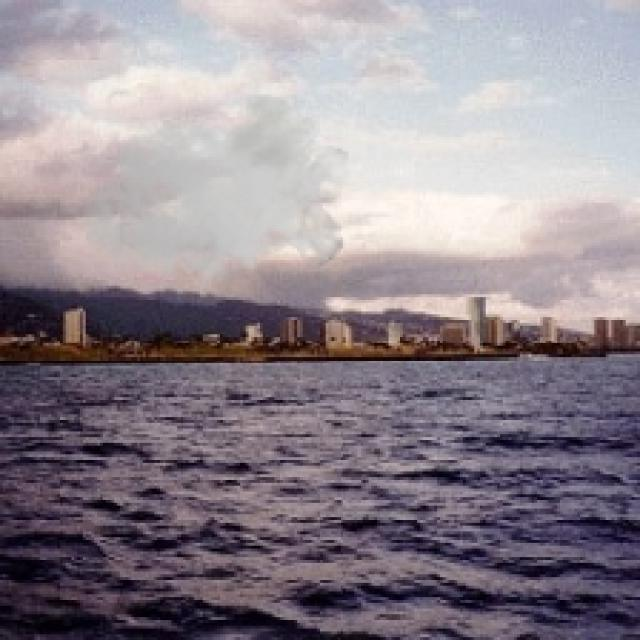Smoke: (80, 94, 349, 303)
